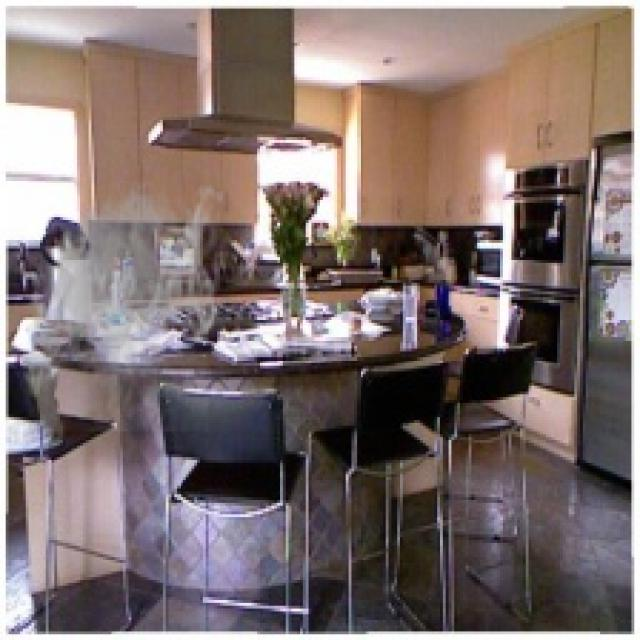smoke: (17, 177, 223, 432)
